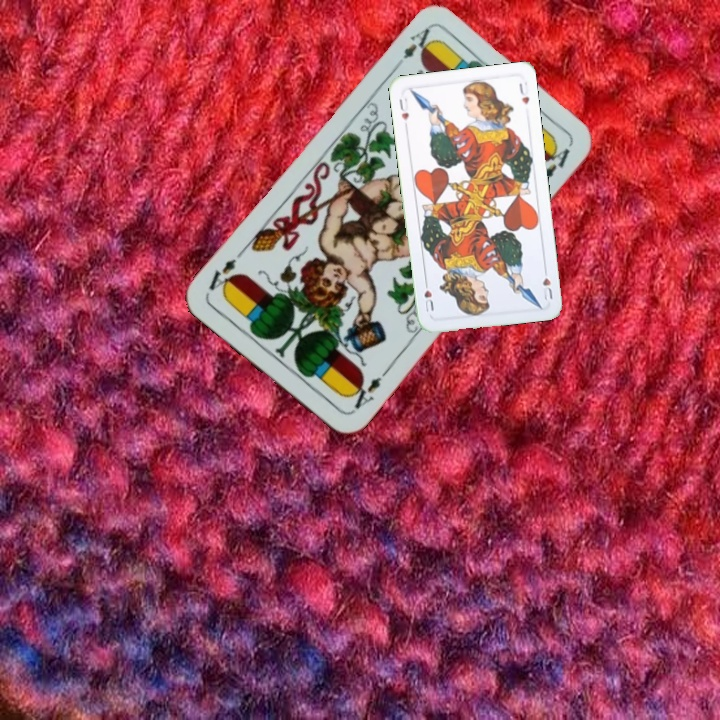EA: (344, 372, 385, 415), (399, 23, 437, 62)
HU: (539, 263, 555, 303), (395, 94, 411, 123)
